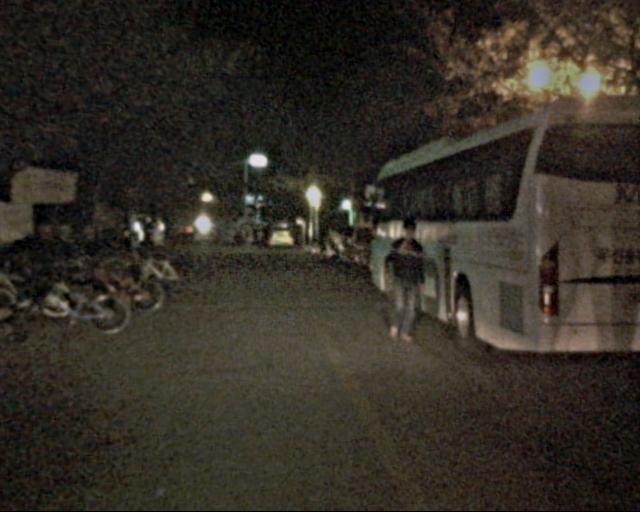person: (379, 223, 428, 343), (146, 215, 169, 272)
